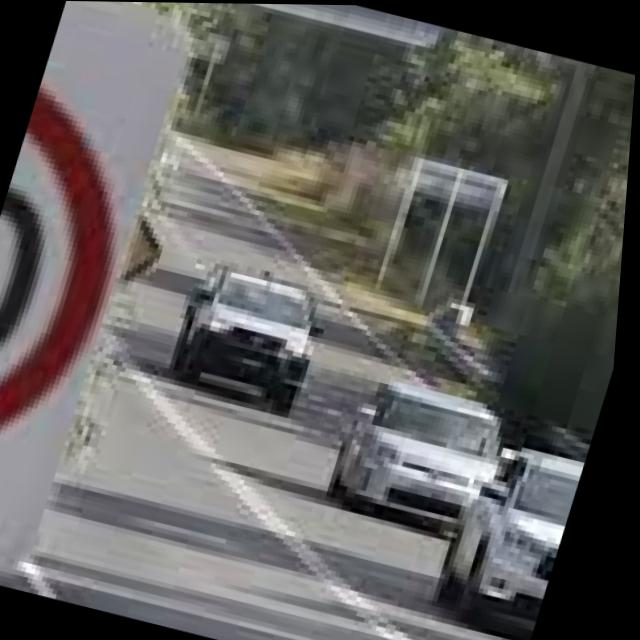Speed Limit -90-: (0, 54, 180, 505)
